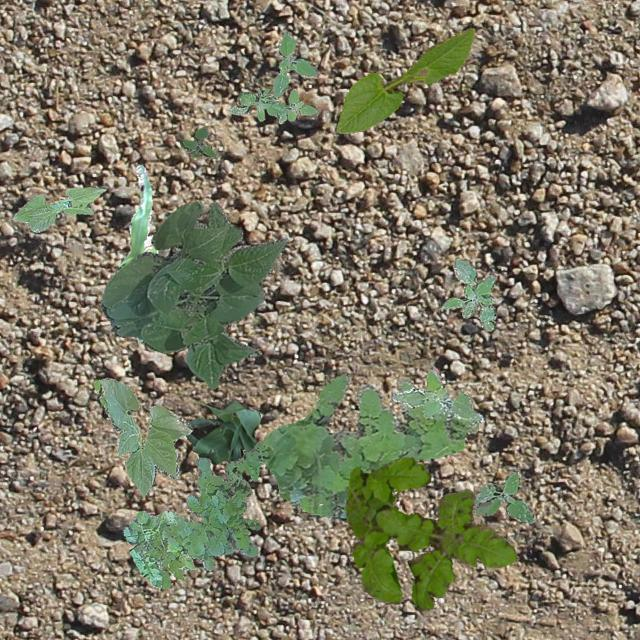crop: (100, 200, 286, 388), (336, 27, 474, 132), (92, 376, 192, 496), (118, 164, 158, 342), (184, 398, 260, 464), (11, 186, 104, 232)
weed: (262, 373, 478, 518), (344, 456, 516, 610), (122, 440, 268, 588), (225, 31, 318, 122), (392, 368, 482, 422), (440, 258, 496, 330), (472, 468, 534, 522), (180, 126, 216, 158)
